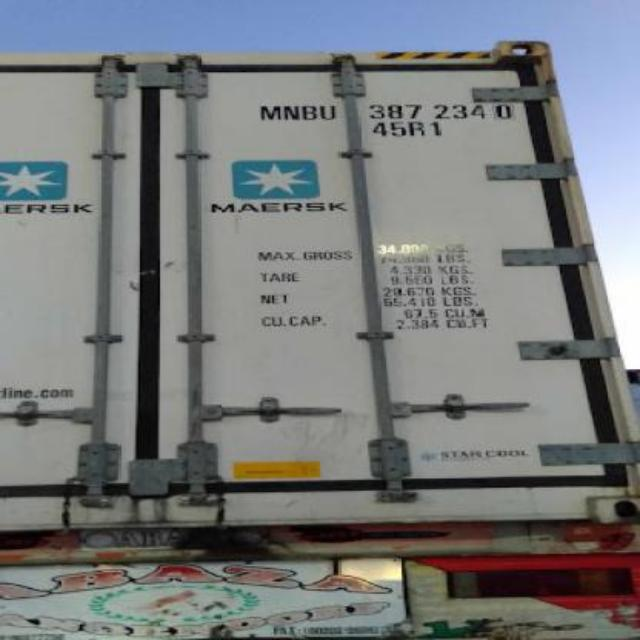0: (492, 100, 518, 124)
2: (428, 98, 452, 120)
3: (452, 98, 470, 122), (364, 103, 388, 119)
4: (470, 97, 490, 123)
7: (402, 96, 424, 120)
8: (386, 103, 404, 119)
B: (300, 100, 318, 120)
M: (254, 100, 282, 124)
N: (282, 100, 302, 124)
U: (316, 99, 340, 125)
